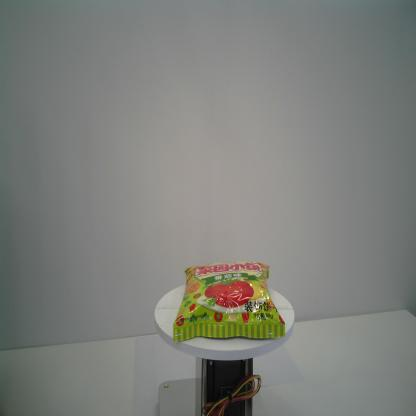Puffed Food: (172, 260, 285, 347)
